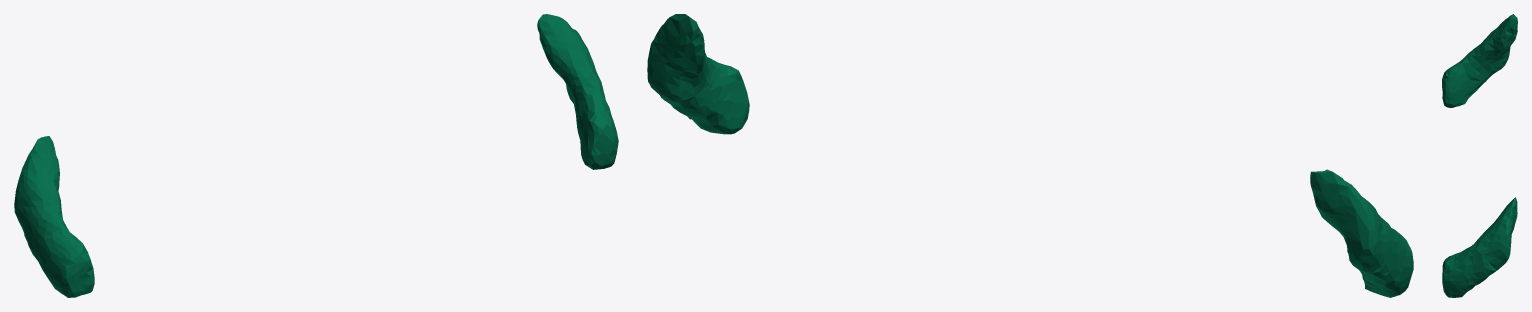
The model's file is 105-PaAL-paraauditory area, lateral part-('0.0000', '0.4980', '0.3451').obj.
3 views of the same model, side by side, from view 1: azimuth 30°, elevation 25°; view 2: azimuth 150°, elevation 25°; view 3: azimuth 270°, elevation 25° (orthographic). The views are drawn at different scales.
Size of the model in its own units: 362 by 76.05 by 55.97.
